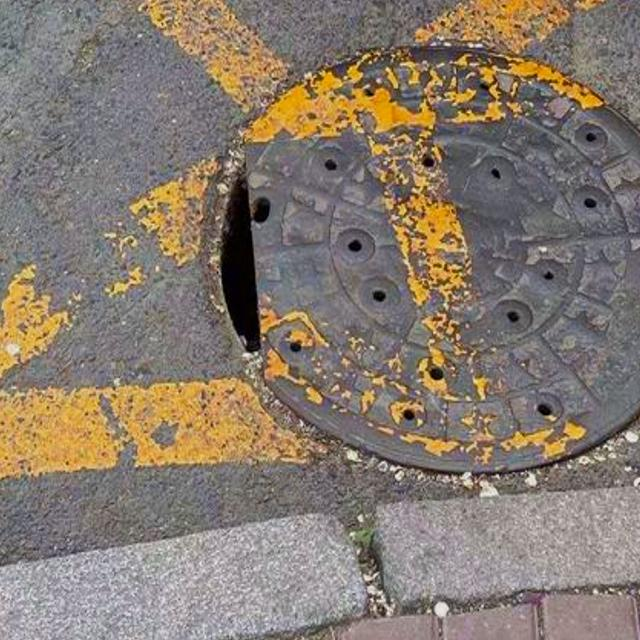broke: (144, 15, 640, 466)
